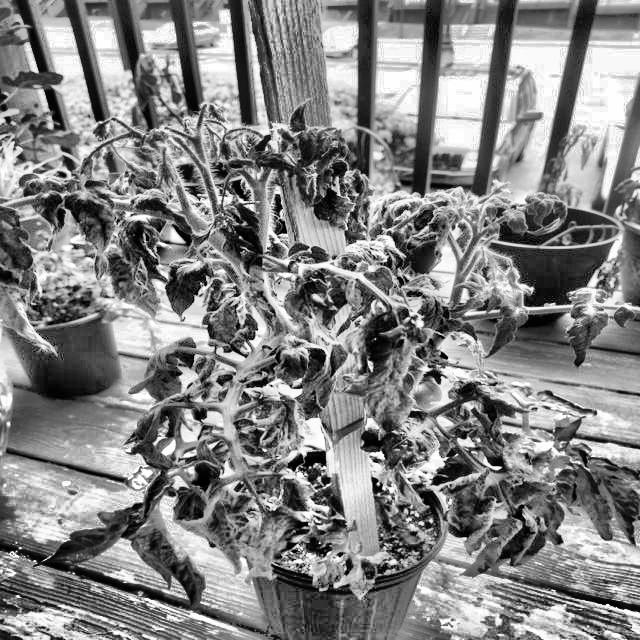plants: (30, 92, 607, 640)
